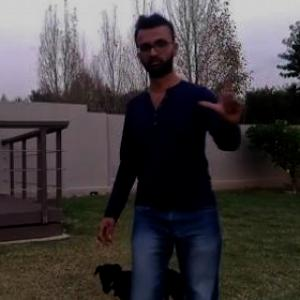land_hand: (197, 59, 253, 124)
